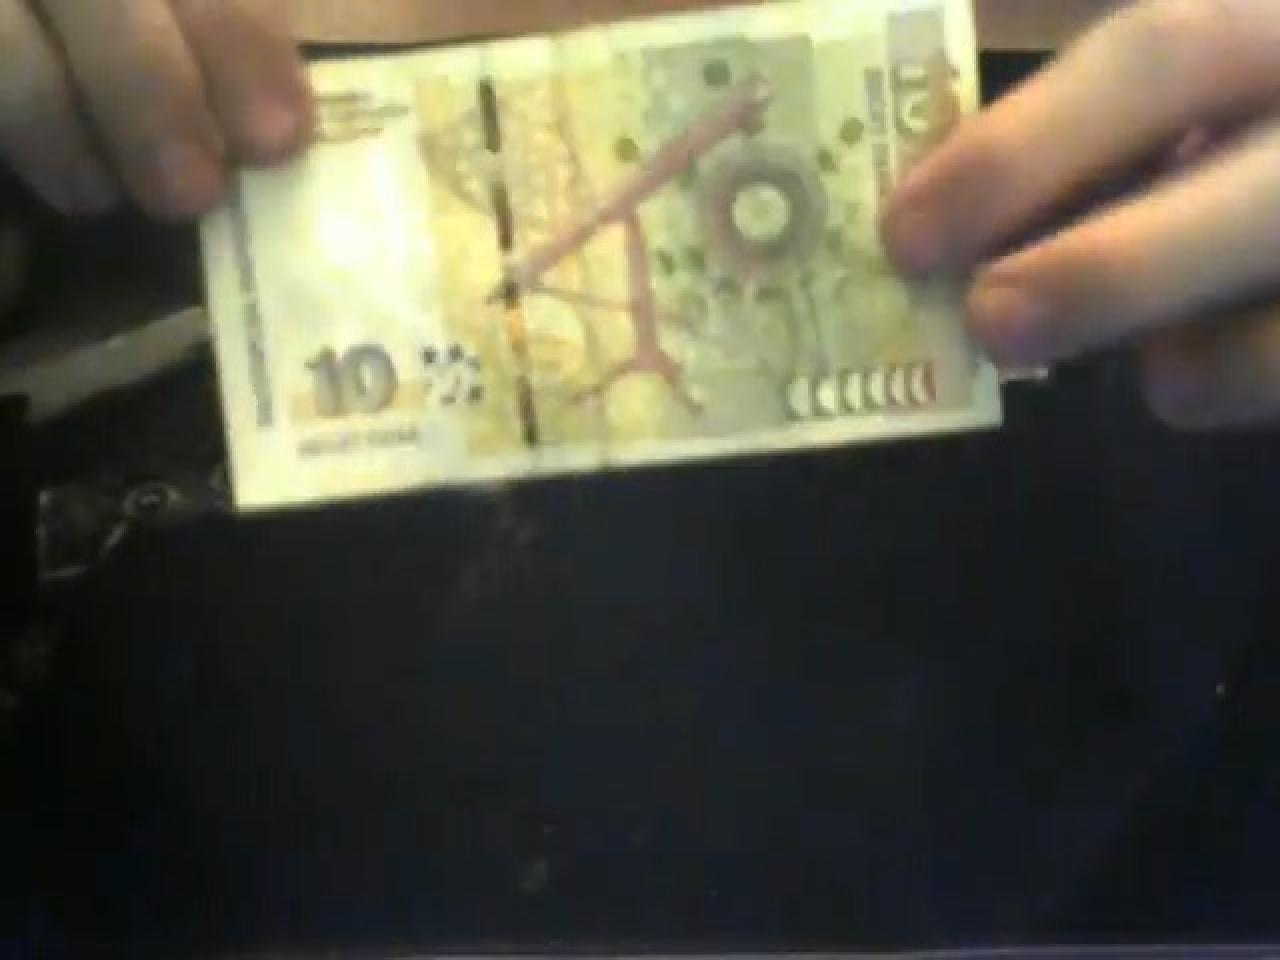10leva: (208, 0, 1000, 509)
